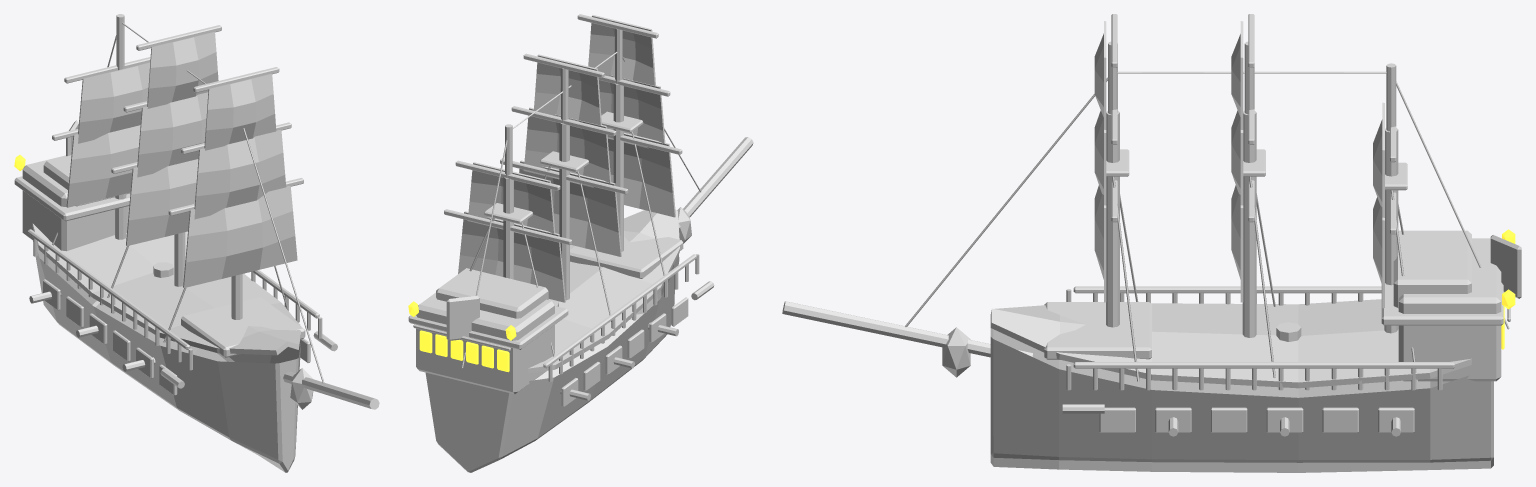
File: player_tier_5_v03.fbx
The picture shows the model from 3 angles, left to right: view 1: azimuth 30°, elevation 25°; view 2: azimuth 150°, elevation 25°; view 3: azimuth 270°, elevation 25°; orthographic projection. The views are drawn at different scales.
Parts seen in each view (by area): view 1: Tier_5_Lofted_Hull, Tier_5_Lofted_Deck, Sail_1_1, Sail_1_2, Sail_2_1, Sail_3_1, Sail_2_2, Sail_1_3, Sail_3_2, Sail_2_3, Stern_GreatCabin, Forecastle_Deck (+16 smaller); view 2: Tier_5_Lofted_Hull, Tier_5_Lofted_Deck, Stern_GreatCabin, Sail_3_1, Sail_2_1, Sail_1_1, Sail_2_2, Upper_Stern_Castle, Sail_3_2, Sail_2_3, Sail_1_3, Forecastle_Deck (+28 smaller); view 3: Tier_5_Lofted_Hull, Tier_5_Lofted_Deck, Stern_GreatCabin, Upper_Stern_Castle, Forecastle_Deck, Bowsprit_Main, Tier_5_Port_TopRail, Mast_2_Lower, Mast_1_Lower, Tier_5_Starboard_TopRail, Stern_Quarterdeck, Mast_3_Lower (+17 smaller).
Boxes of the visible parts, left/top/right/bottom form: Tier_5_Lofted_Hull: left=33, top=241, right=300, bottom=472; Tier_5_Lofted_Deck: left=32, top=223, right=301, bottom=355; Sail_1_1: left=183, top=186, right=297, bottom=287; Sail_1_2: left=194, top=130, right=286, bottom=219; Sail_2_1: left=126, top=159, right=198, bottom=245; Sail_3_1: left=66, top=125, right=140, bottom=207; Sail_2_2: left=137, top=92, right=208, bottom=177; Sail_1_3: left=204, top=74, right=276, bottom=150; Sail_3_2: left=78, top=62, right=150, bottom=143; Sail_2_3: left=147, top=32, right=218, bottom=108; Stern_GreatCabin: left=22, top=155, right=129, bottom=251; Forecastle_Deck: left=181, top=297, right=305, bottom=357; Tier_5_Lofted_Hull: left=425, top=254, right=679, bottom=472; Tier_5_Lofted_Deck: left=528, top=209, right=679, bottom=373; Stern_GreatCabin: left=416, top=292, right=554, bottom=394; Sail_3_1: left=458, top=211, right=565, bottom=302; Sail_2_1: left=519, top=160, right=621, bottom=256; Sail_1_1: left=608, top=129, right=675, bottom=217; Sail_2_2: left=523, top=107, right=611, bottom=187; Upper_Stern_Castle: left=436, top=268, right=548, bottom=318; Sail_3_2: left=467, top=162, right=555, bottom=237; Sail_2_3: left=533, top=54, right=601, bottom=125; Sail_1_3: left=588, top=15, right=655, bottom=85; Forecastle_Deck: left=570, top=231, right=683, bottom=278; Tier_5_Lofted_Hull: left=990, top=328, right=1493, bottom=472; Tier_5_Lofted_Deck: left=990, top=299, right=1471, bottom=388; Stern_GreatCabin: left=1398, top=238, right=1501, bottom=381; Upper_Stern_Castle: left=1393, top=230, right=1471, bottom=308; Forecastle_Deck: left=1044, top=302, right=1151, bottom=359; Bowsprit_Main: left=782, top=301, right=1032, bottom=357; Tier_5_Port_TopRail: left=1073, top=362, right=1454, bottom=368; Mast_2_Lower: left=1242, top=111, right=1256, bottom=337; Mast_1_Lower: left=1106, top=111, right=1119, bottom=327; Tier_5_Starboard_TopRail: left=1073, top=286, right=1381, bottom=293; Stern_Quarterdeck: left=1381, top=282, right=1503, bottom=325; Mast_3_Lower: left=1384, top=128, right=1398, bottom=333.
Size of the model in its own units: 1.72 by 3.43 by 5.3.
